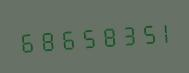eight: (36, 24, 54, 55), (93, 20, 111, 51)
five: (74, 21, 92, 53), (131, 17, 149, 49)
one: (150, 16, 168, 47)
six: (17, 25, 35, 57), (55, 22, 73, 54)
three: (112, 18, 130, 50)
